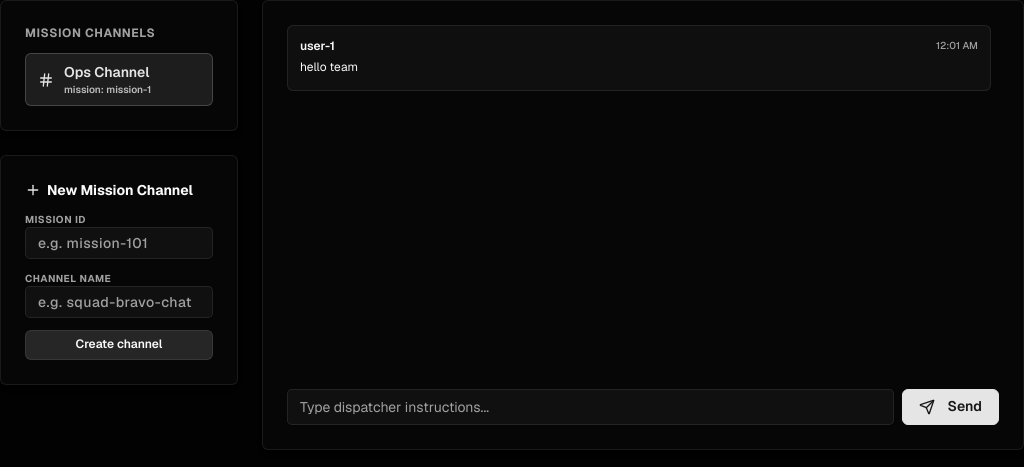
Test: ChatView › posts a new message to the selected channel and appends it to the list
Check: the text "hello team" is shown, box [300,59,358,75]
Type "reinforcements en route" into the field named "Message" at (591, 407), box [287,389,894,425]
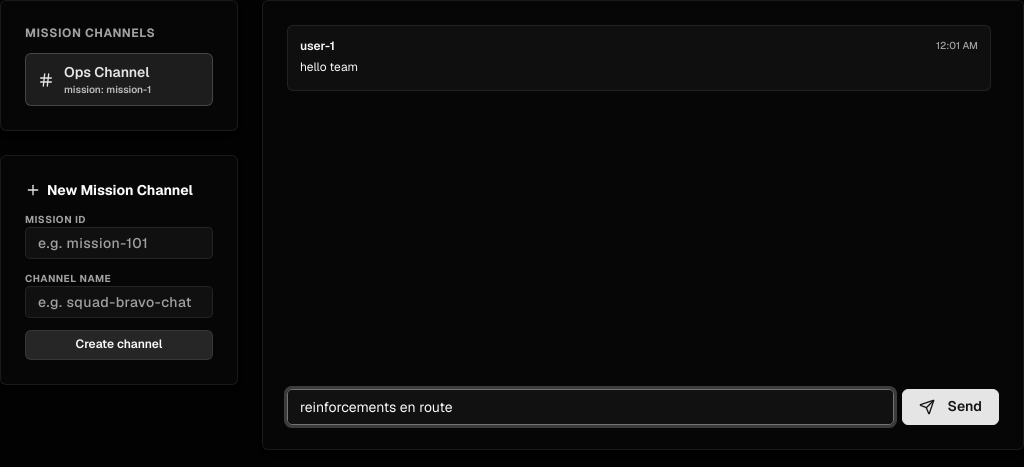
Click the button "Send" at (951, 407), box [902,389,999,425]
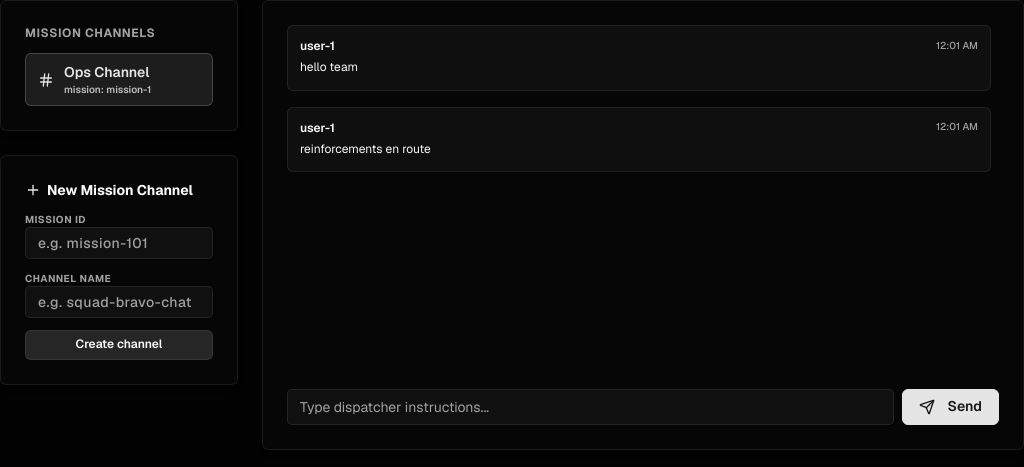
Check: the text "reinforcements en route" is shown, box [300,140,431,156]
